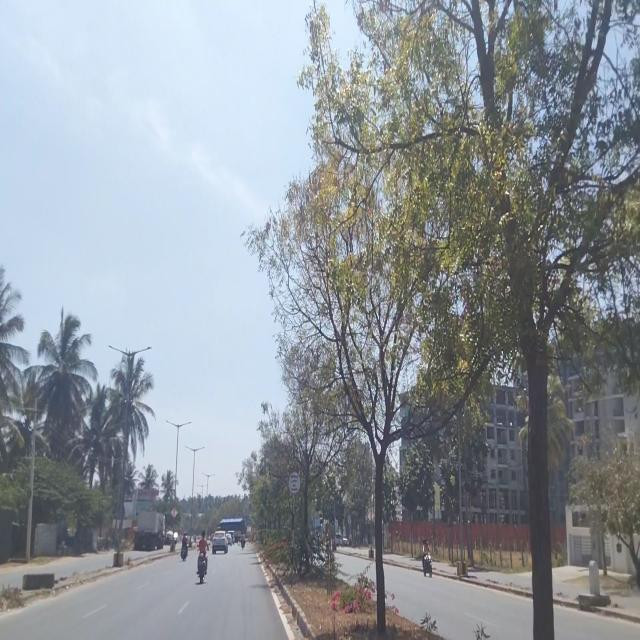bien_cam: (288, 470, 301, 496)
